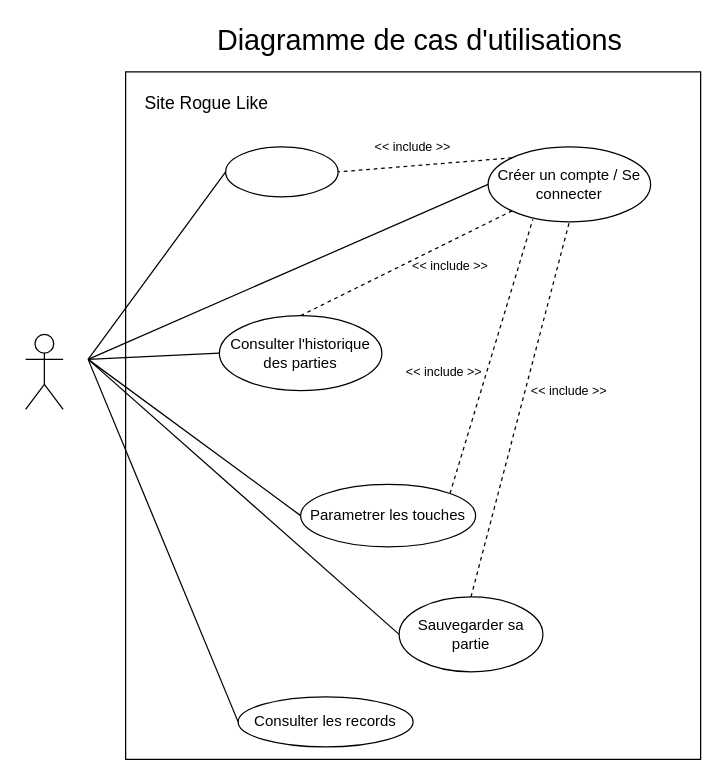
Some shapes in this 723 by 781 pixel diagram are drawn without their labels. Here are the shapes that lost their labels. From the top down, the box of each, then its label:
(224, 146, 338, 197): Lancer une partie
(24, 333, 63, 409): Joueur
